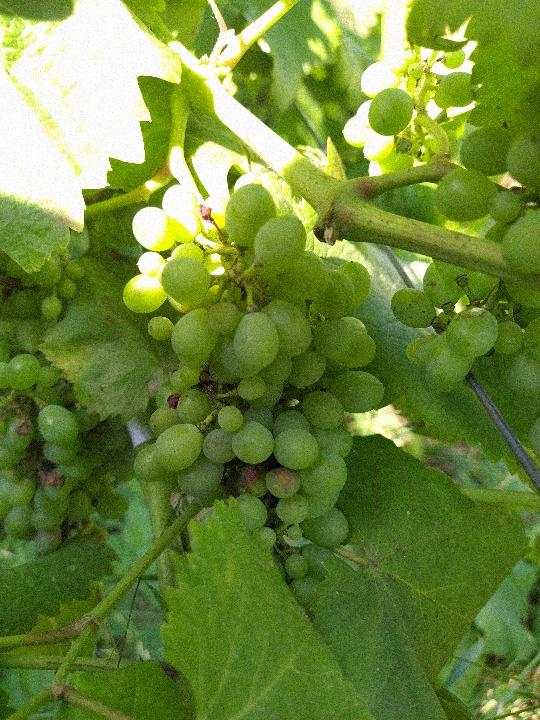grape: (120, 175, 384, 612)
